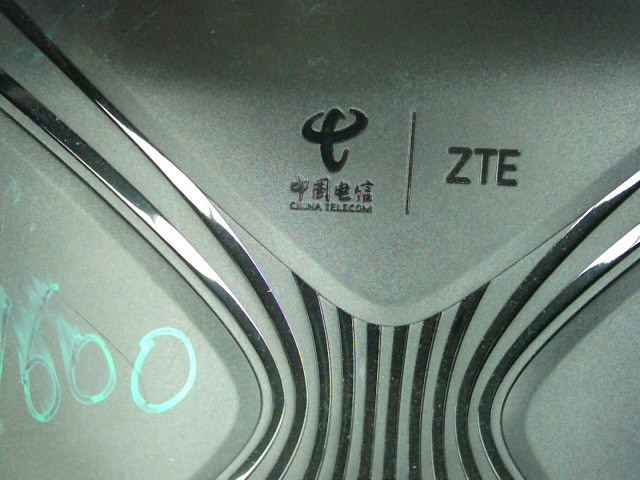AX_ZTEChinaTelecom: (272, 104, 526, 218)
